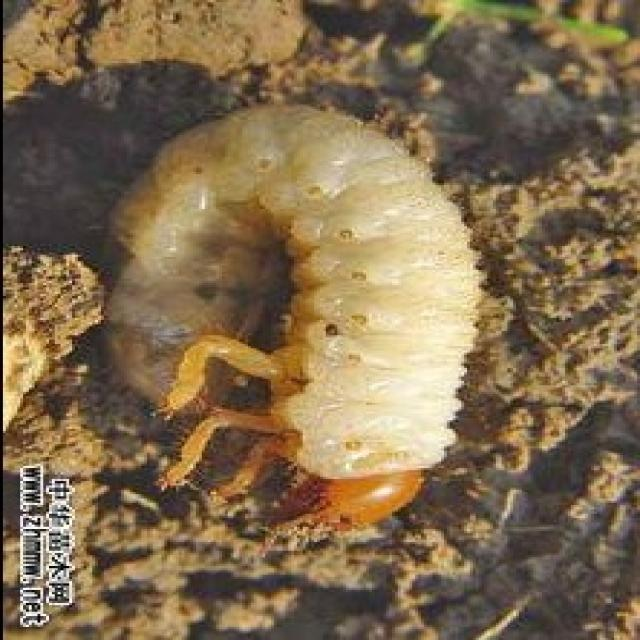grub: (92, 105, 475, 534)
